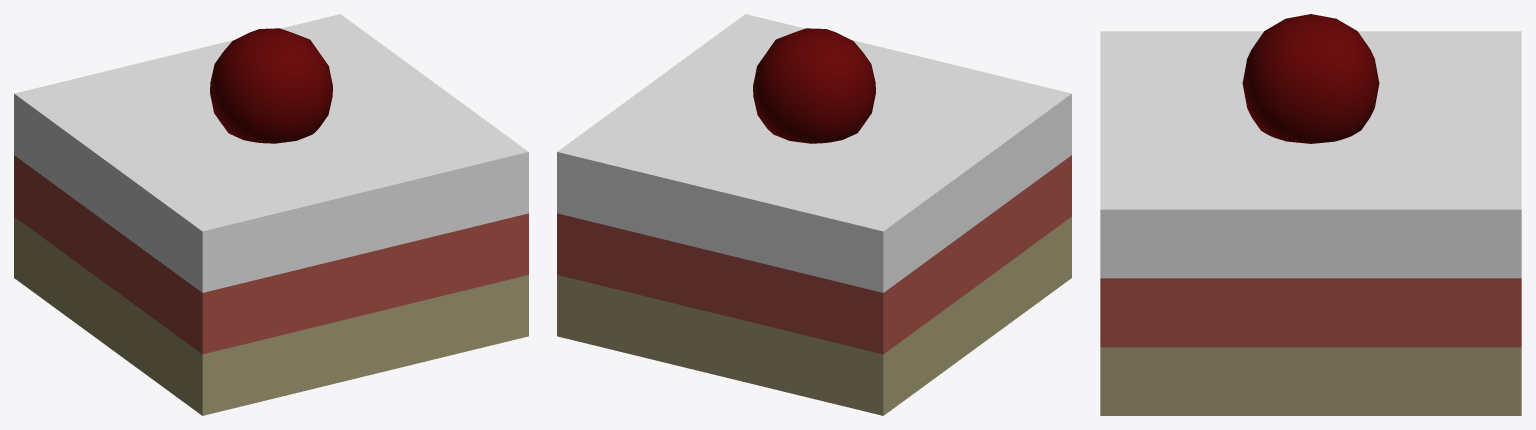
The model's file is cake2.fbx.
The picture shows the model from 3 angles, left to right: view 1: azimuth 30°, elevation 25°; view 2: azimuth 150°, elevation 25°; view 3: azimuth 270°, elevation 25°; orthographic projection. The views are drawn at different scales.
Parts seen in each view (by area): view 1: cake2; view 2: cake2; view 3: cake2.
Part boxes in pixels (x1=…): cake2: x1=14, y1=14, x2=528, y2=415; cake2: x1=557, y1=14, x2=1071, y2=415; cake2: x1=1100, y1=14, x2=1521, y2=415.
Bounding box in the file's own units: 1 × 0.7995 × 1.
